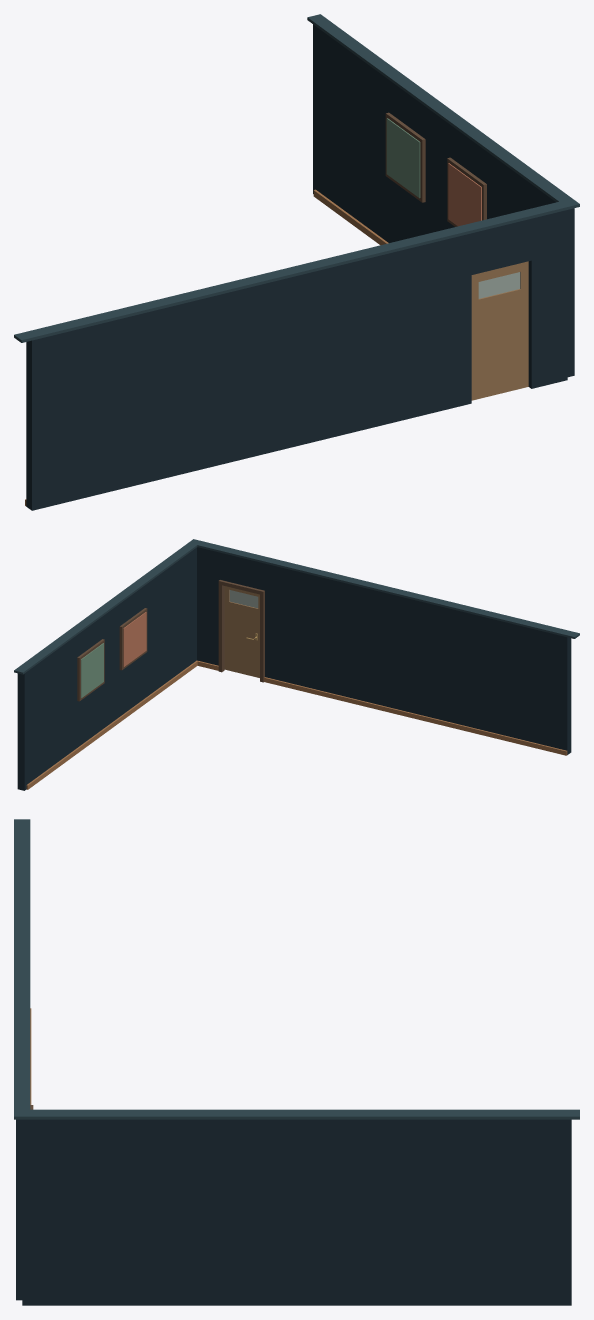
File: office-shell.glb
3 renders of one model, top to bottom at view 1: azimuth 30°, elevation 25°; view 2: azimuth 150°, elevation 25°; view 3: azimuth 270°, elevation 25°, orthographic. The views are drawn at different scales.
Parts seen in each view (by area): view 1: SW_Batch_CutawayFront_Wall, SW_RightWall, SW_Batch_CutawayFront_Door, SW_FrontCap, SW_RightCap, SW_AcousticFabric1, SW_AcousticFabric0, SW_Batch_CutawayRight_DoorDark, SW_DoorTransom, SW_RightSkirting; view 2: SW_Batch_CutawayFront_Wall, SW_RightWall, SW_FrontCap, SW_Batch_CutawayFront_Door, SW_RightCap, SW_Batch_CutawayFront_Oak, SW_Batch_CutawayFront_DoorDark, SW_RightSkirting, SW_AcousticFabric0, SW_AcousticFabric1, SW_Batch_CutawayRight_DoorDark, SW_DoorTransom; view 3: SW_RightWall, SW_RightCap, SW_FrontCap, SW_Batch_CutawayFront_Wall.
Boxes of the visible parts, x1=… form: SW_Batch_CutawayFront_Wall: x1=26, y1=210, x2=567, y2=510; SW_RightWall: x1=313, y1=24, x2=574, y2=377; SW_Batch_CutawayFront_Door: x1=471, y1=261, x2=528, y2=400; SW_FrontCap: x1=14, y1=199, x2=579, y2=342; SW_RightCap: x1=307, y1=14, x2=577, y2=209; SW_AcousticFabric1: x1=386, y1=118, x2=420, y2=198; SW_AcousticFabric0: x1=448, y1=163, x2=481, y2=226; SW_Batch_CutawayRight_DoorDark: x1=385, y1=112, x2=486, y2=226; SW_DoorTransom: x1=478, y1=272, x2=520, y2=298; SW_RightSkirting: x1=313, y1=189, x2=388, y2=245; SW_Batch_CutawayFront_Wall: x1=197, y1=547, x2=571, y2=754; SW_RightWall: x1=17, y1=547, x2=196, y2=790; SW_FrontCap: x1=189, y1=539, x2=579, y2=638; SW_Batch_CutawayFront_Door: x1=224, y1=586, x2=259, y2=677; SW_RightCap: x1=14, y1=539, x2=201, y2=674; SW_Batch_CutawayFront_Oak: x1=196, y1=660, x2=567, y2=755; SW_Batch_CutawayFront_DoorDark: x1=218, y1=580, x2=264, y2=682; SW_RightSkirting: x1=26, y1=660, x2=197, y2=789; SW_AcousticFabric0: x1=123, y1=612, x2=146, y2=667; SW_AcousticFabric1: x1=81, y1=643, x2=103, y2=698; SW_Batch_CutawayRight_DoorDark: x1=77, y1=608, x2=147, y2=701; SW_DoorTransom: x1=229, y1=590, x2=258, y2=608; SW_RightWall: x1=22, y1=1119, x2=571, y2=1305; SW_RightCap: x1=14, y1=1109, x2=579, y2=1119; SW_FrontCap: x1=14, y1=819, x2=30, y2=1119; SW_Batch_CutawayFront_Wall: x1=16, y1=1119, x2=22, y2=1300.
Size of the model in its own units: 10.24 by 3.05 by 8.24.
